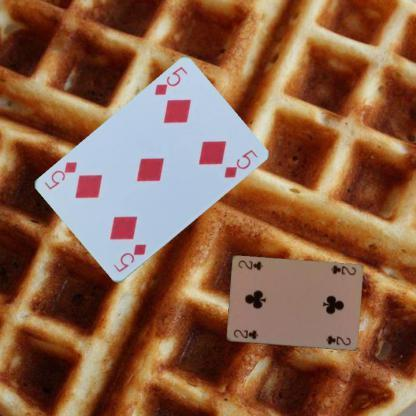2c: (230, 326, 259, 340), (328, 262, 357, 276)
5d: (110, 240, 148, 274), (152, 64, 188, 97)
